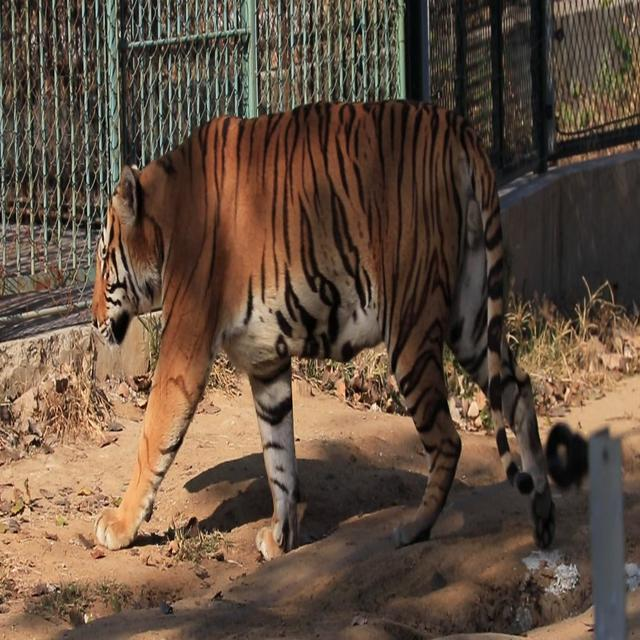tiger: (89, 97, 587, 562)
